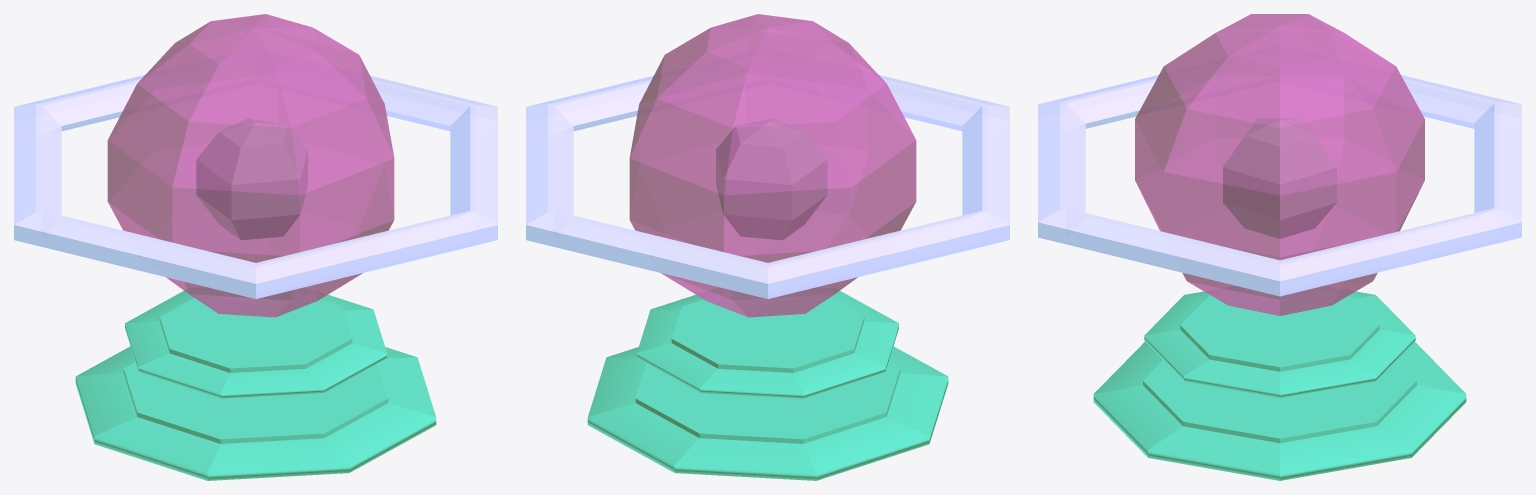
Rendered from ranged_trap.fbx.
3 renders of one model, left to right at view 1: azimuth 30°, elevation 25°; view 2: azimuth 150°, elevation 25°; view 3: azimuth 270°, elevation 25°, orthographic.
Visible parts, largest first — view 1: magical_sphere, sphere_ring, disc1, disc, centre; view 2: magical_sphere, sphere_ring, disc1, disc, centre; view 3: magical_sphere, sphere_ring, disc1, disc, centre.
Part boxes in pixels (x1,y1,x2,y2): magical_sphere: [107, 14, 394, 317]; sphere_ring: [14, 75, 497, 298]; disc1: [75, 346, 436, 480]; disc: [125, 290, 386, 398]; centre: [196, 118, 307, 239]; magical_sphere: [629, 14, 916, 317]; sphere_ring: [526, 75, 1009, 298]; disc1: [587, 346, 948, 480]; disc: [637, 290, 898, 398]; centre: [716, 118, 827, 239]; magical_sphere: [1135, 14, 1424, 315]; sphere_ring: [1038, 75, 1521, 296]; disc1: [1093, 342, 1466, 480]; disc: [1144, 291, 1415, 397]; centre: [1223, 118, 1336, 238].
Size of the model in its own units: 14.65 by 11.31 by 12.69.
